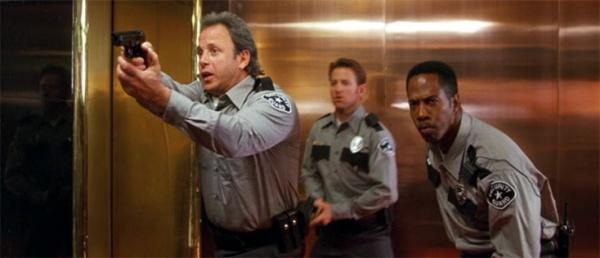Gun: (110, 27, 144, 60)
